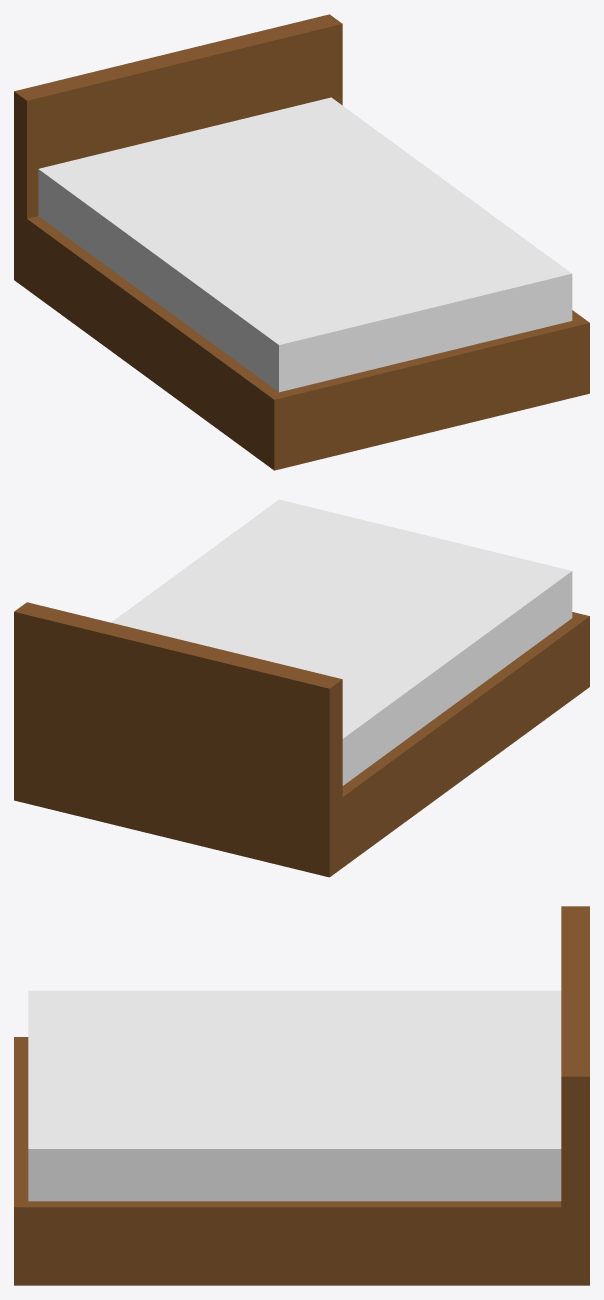
The model's file is bed.glb.
3 views of the same model, one above another, from view 1: azimuth 30°, elevation 25°; view 2: azimuth 150°, elevation 25°; view 3: azimuth 270°, elevation 25° (orthographic). The views are drawn at different scales.
Bounding box in the file's own units: 1.4 × 0.8 × 2.
